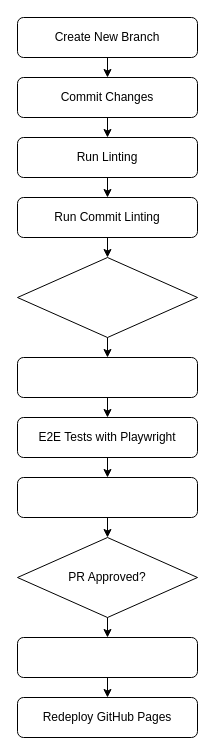
Image size: 215x755. Some labels were removed from this diagram. Here are the shapes that lost their labels. From the top down, the box of each, then its label:
(16, 256, 198, 338): All Tests Pass?
(16, 356, 198, 398): Unit Tests with Jest
(16, 476, 198, 518): PR Review
(16, 636, 198, 678): Merge to Main
